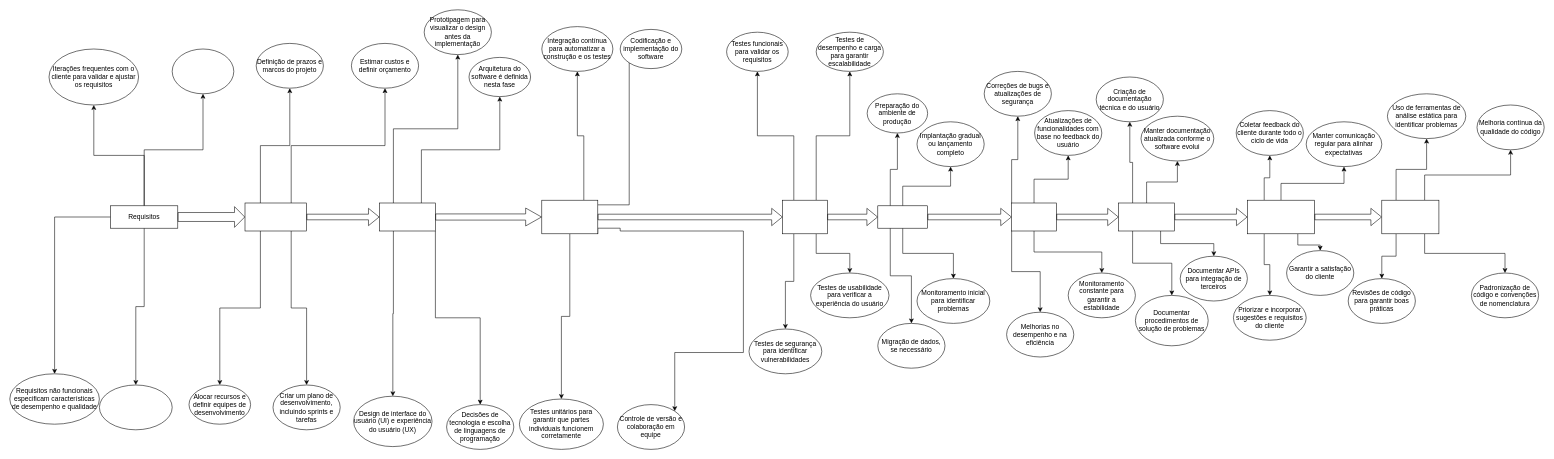
This 1554x459 diagram has some shape labels left out. The shapes that lost their labels are listed below. From the top down, each one's centre as x and y in pixels, then its label:
(x=203, y=71): Documentação detalhada dos requisitos do sistema
(x=275, y=216): Planejamento
(x=407, y=216): Design
(x=569, y=217): Desenvolvimento
(x=804, y=217): Testes
(x=902, y=216): Implantação
(x=1033, y=216): Manutenção
(x=1146, y=216): Documentação
(x=1281, y=217): Feedback do Cliente
(x=1410, y=217): Qualidade do Código
(x=135, y=407): Requisitos funcionais descrevem as funções do software
